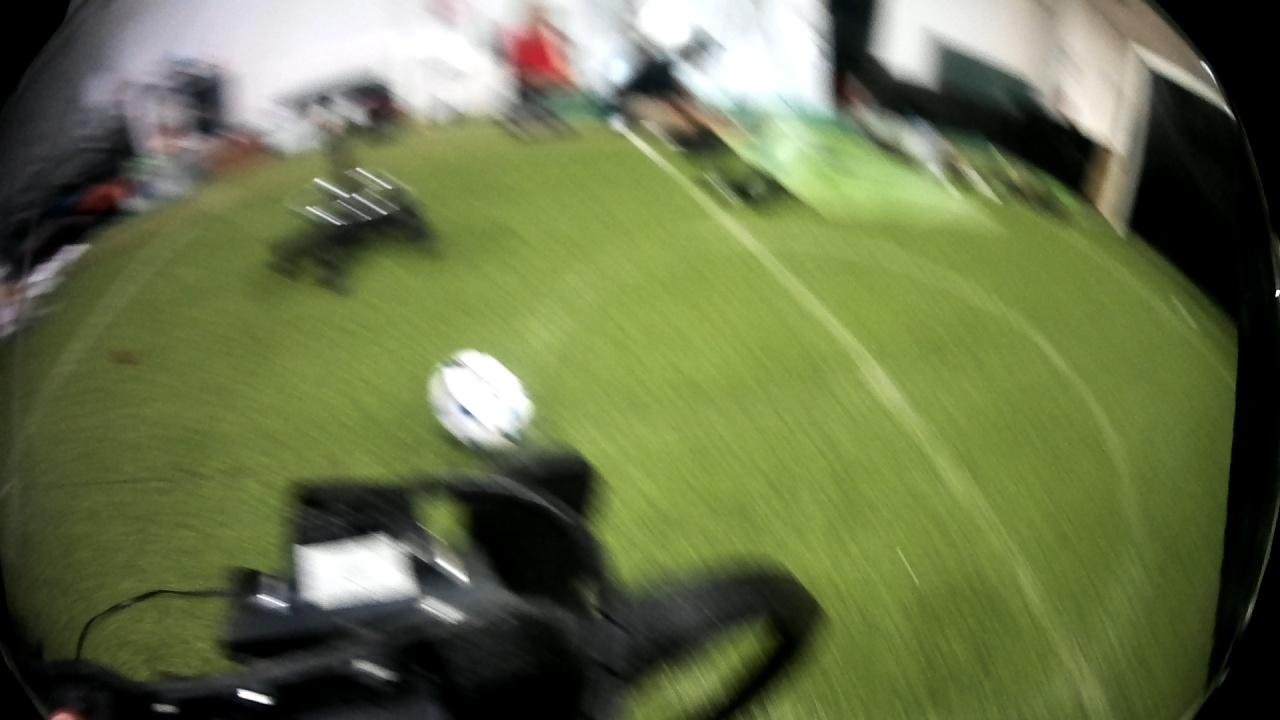ball: (421, 339, 541, 452)
